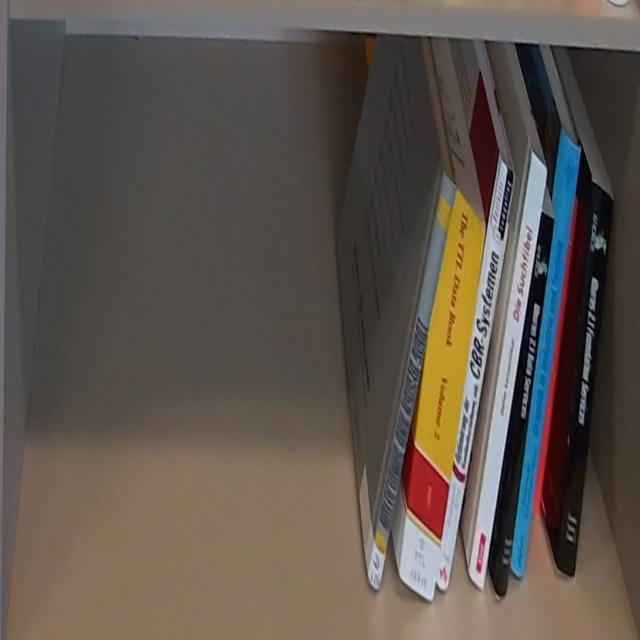Book Spine: (366, 168, 456, 595), (400, 187, 488, 605), (467, 151, 548, 589), (436, 154, 515, 595), (510, 130, 582, 585), (494, 212, 556, 602), (556, 184, 613, 582), (533, 193, 582, 512)
